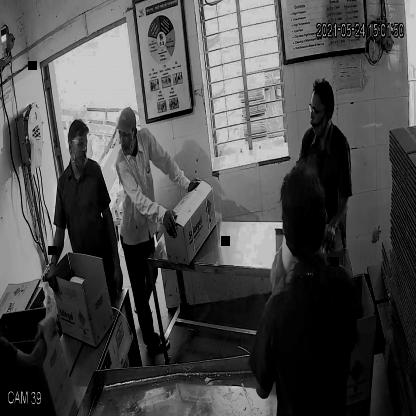goggles: (306, 100, 335, 120), (66, 136, 90, 152)
no_goggles: (116, 128, 134, 142)
